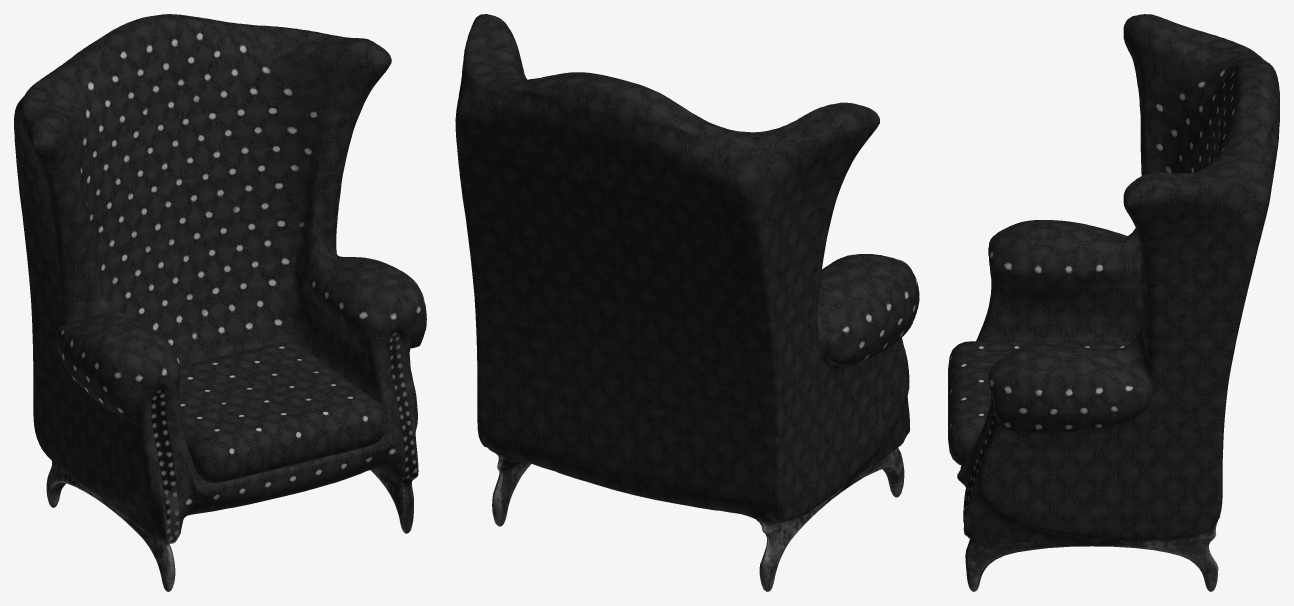
File: chair-transformed.glb
3 views of the same model, side by side, from view 1: azimuth 30°, elevation 25°; view 2: azimuth 150°, elevation 25°; view 3: azimuth 270°, elevation 25° (orthographic). The views are drawn at different scales.
Parts seen in each view (by area): view 1: chair_chair_0, cushion_cushion_0, chair_wood_0; view 2: chair_chair_0, chair_wood_0; view 3: chair_chair_0, cushion_cushion_0, chair_wood_0.
Boxes of the visible parts, x1=… form: chair_chair_0: x1=14, y1=14, x2=426, y2=540; cushion_cushion_0: x1=151, y1=342, x2=386, y2=482; chair_wood_0: x1=46, y1=332, x2=417, y2=591; chair_chair_0: x1=455, y1=14, x2=919, y2=522; chair_wood_0: x1=492, y1=431, x2=909, y2=591; chair_chair_0: x1=957, y1=14, x2=1279, y2=543; cushion_cushion_0: x1=948, y1=341, x2=1132, y2=465; chair_wood_0: x1=963, y1=407, x2=1218, y2=591.
Bounding box in the file's own units: 1.32 × 1.56 × 1.02.
Materials: 3 (3 with a texture image).
